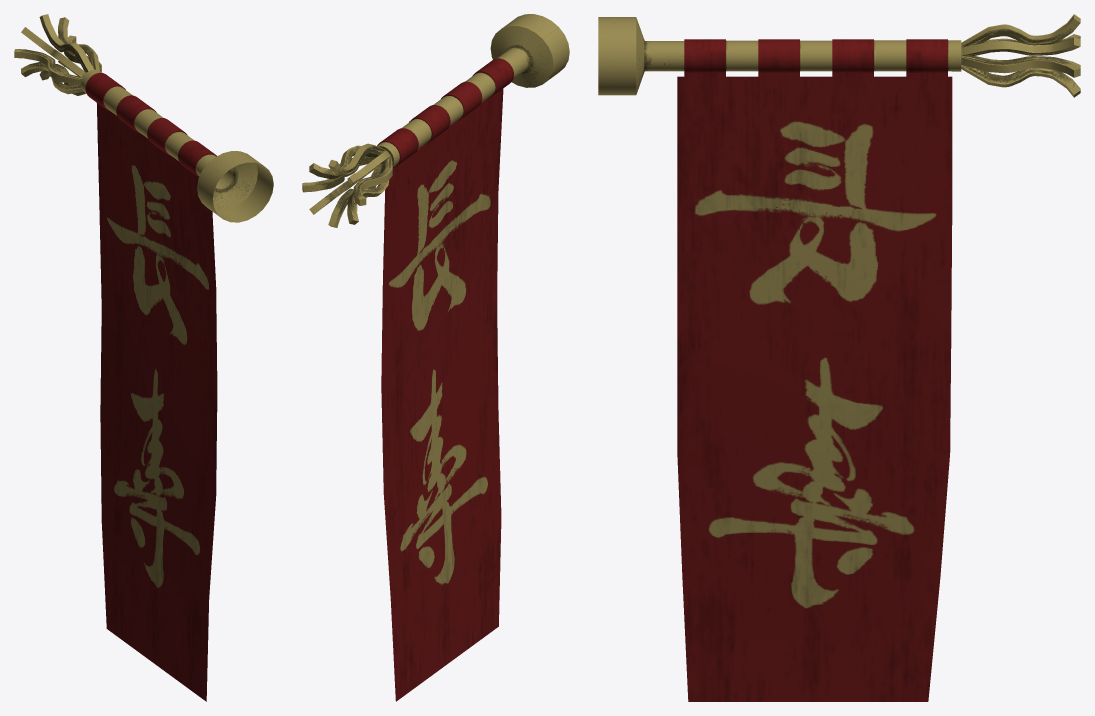
File: SM_Flags_01.fbx
3 views of the same model, side by side, from view 1: azimuth 30°, elevation 25°; view 2: azimuth 150°, elevation 25°; view 3: azimuth 270°, elevation 25° (orthographic). The views are drawn at different scales.
Visible parts, largest first — view 1: SM_Flags_01; view 2: SM_Flags_01; view 3: SM_Flags_01.
Boxes of the visible parts, x1,y1,x2,y2 form: SM_Flags_01: (14, 14, 273, 701); SM_Flags_01: (302, 14, 569, 701); SM_Flags_01: (598, 14, 1080, 701).
Size of the model in its own units: 46 by 257 by 403.
1 material, 1 textured.
